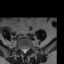CCS_normal: (23, 46, 25, 55)
LFS_normal: (27, 44, 29, 52)
LLS_normal: (25, 46, 27, 54)
RFS_normal: (19, 45, 21, 53)
RLS_normal: (21, 46, 23, 54)
